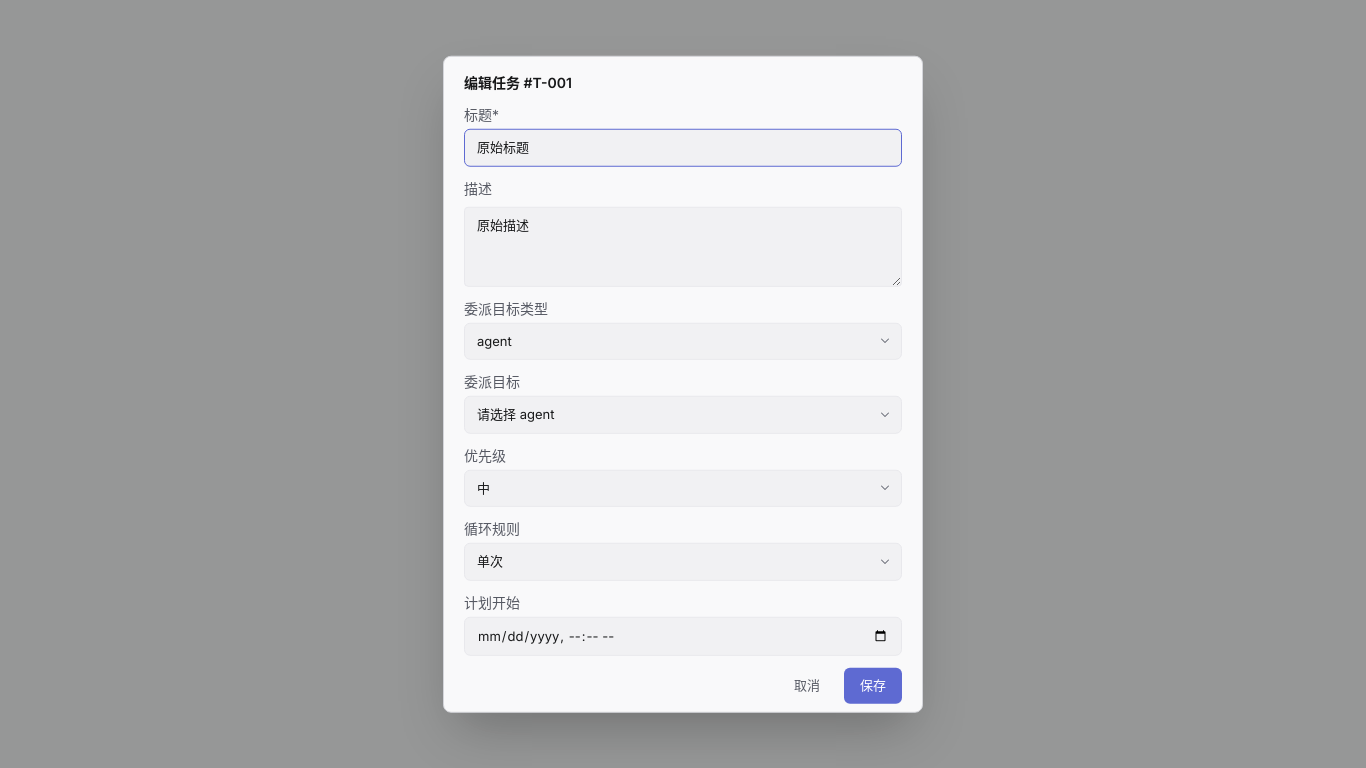
Test: EditTaskDialog 提交 › 目标类型选 team 但未选对象 → 保存按钮禁用
The width and height of the screenshot is (1366, 768).
Select "团队" in the dropdown labelled "委派目标类型" at (683, 341), box [464,322,902,360]
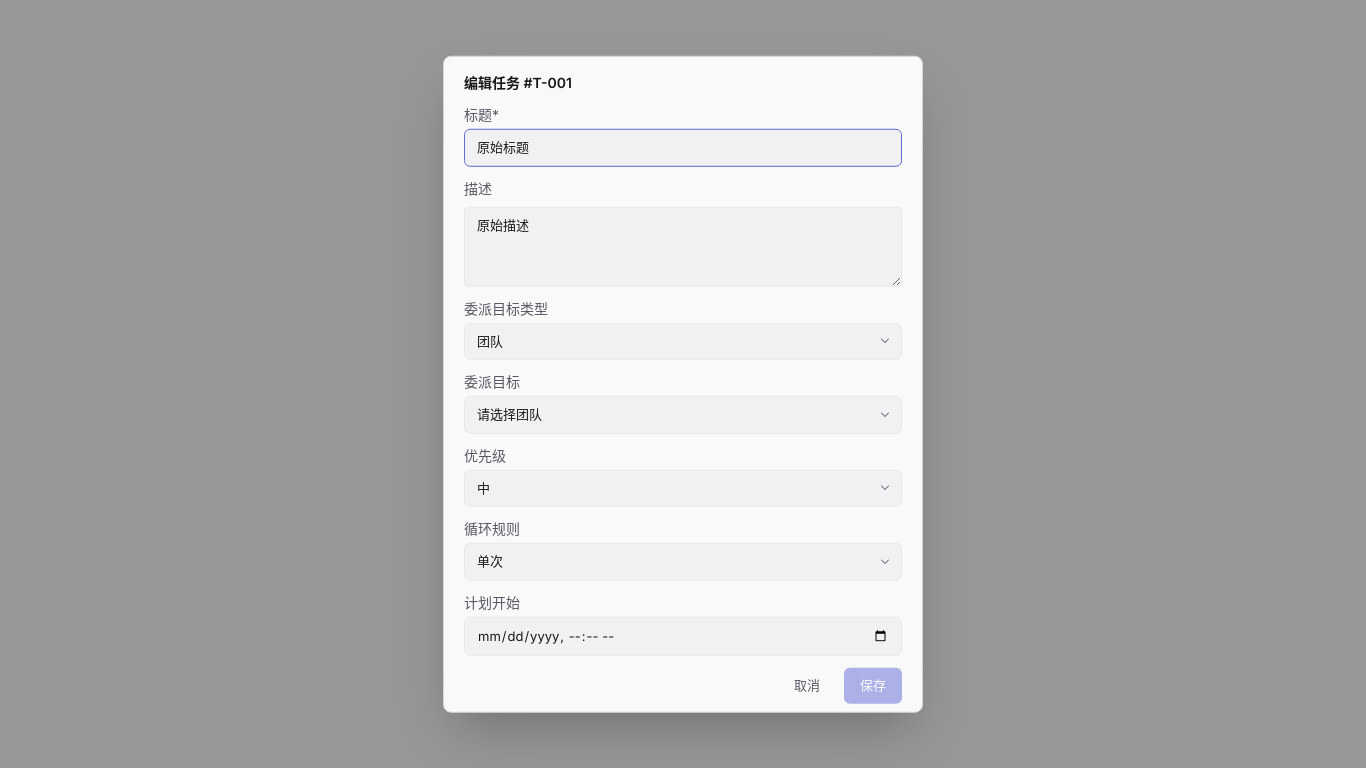
Now the button "保存" is disabled, box [844,668,902,703]
